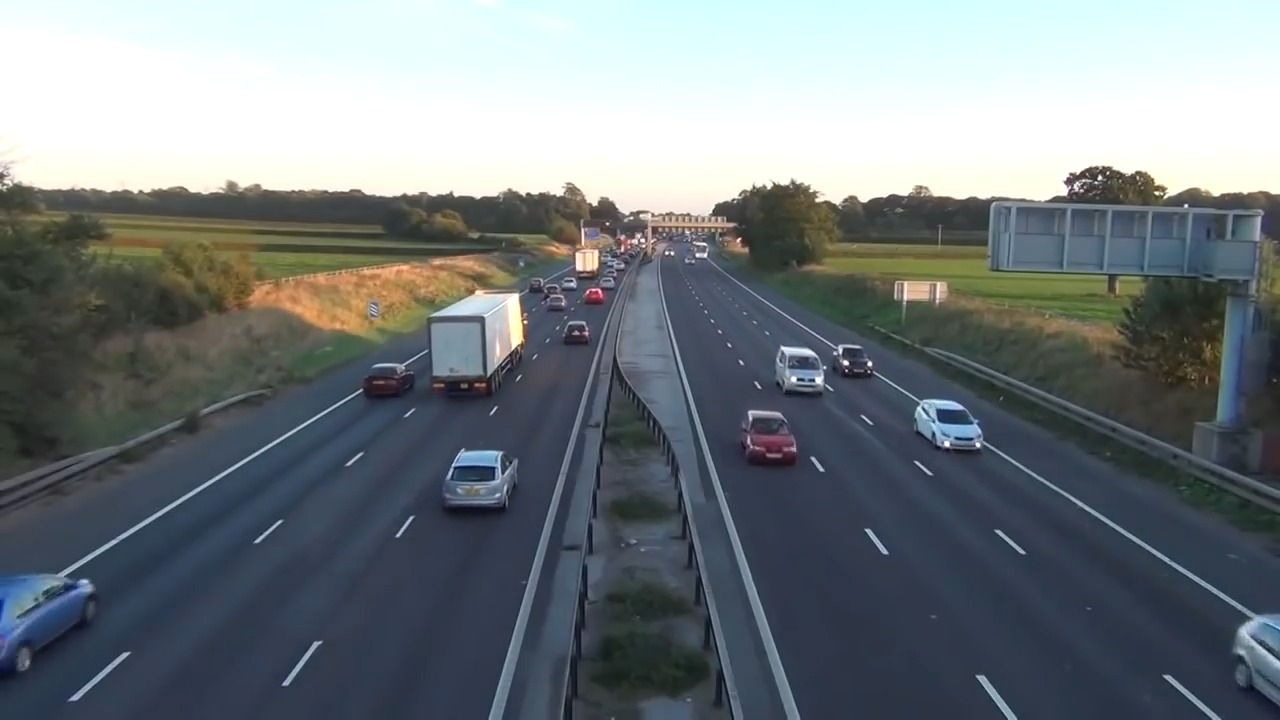truck: (429, 290, 534, 400)
